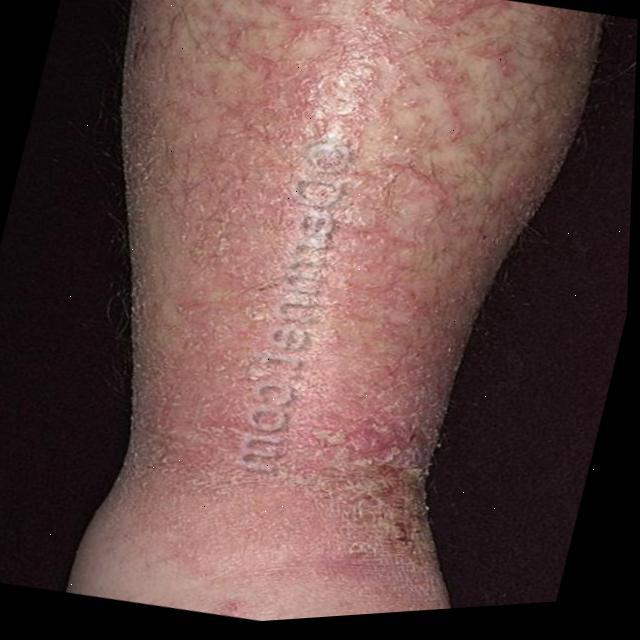Eczema: (34, 0, 590, 580)
